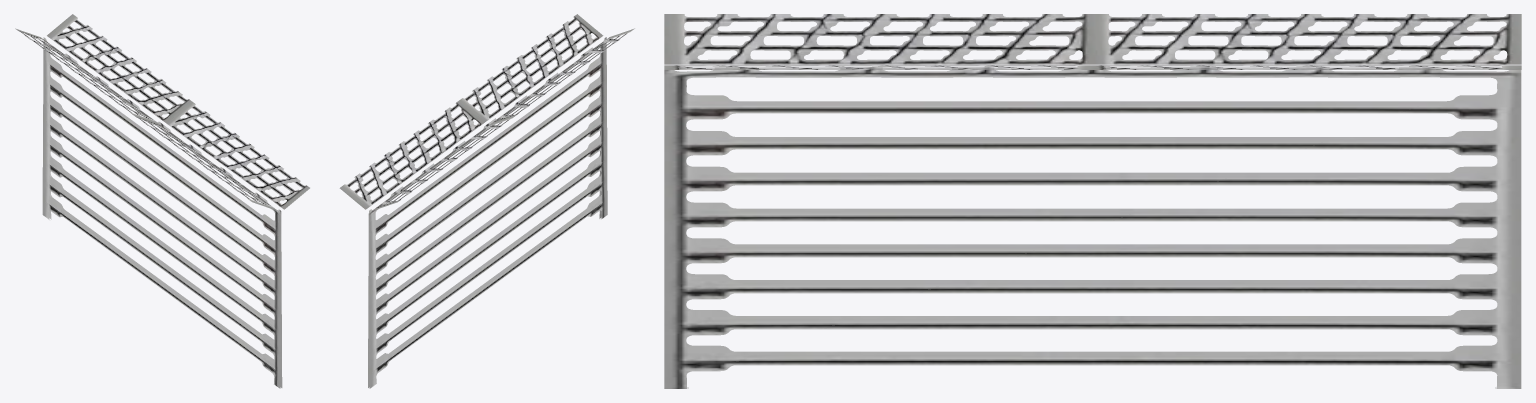
The model's file is razorwirefencediag_hdtex.glb.
3 views of the same model, side by side, from view 1: azimuth 30°, elevation 25°; view 2: azimuth 150°, elevation 25°; view 3: azimuth 270°, elevation 25° (orthographic). The views are drawn at different scales.
Visible parts, largest first — view 1: razor normal; view 2: razor normal; view 3: razor normal.
Part boxes in pixels (x1,y1,x2,y2): razor normal: (15, 14, 309, 388); razor normal: (339, 14, 634, 388); razor normal: (664, 14, 1521, 388).
Bounding box in the file's own units: 1.72 × 5.47 × 12.19.
Materials: 1 (1 with a texture image).
